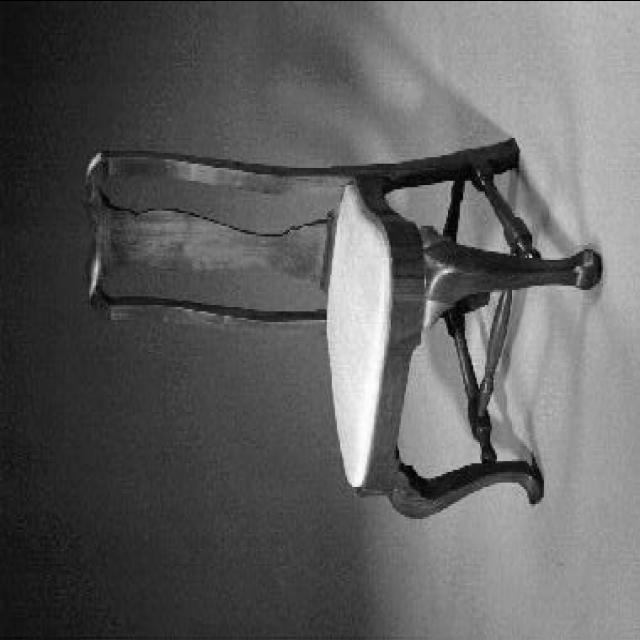chair: (81, 135, 603, 521)
